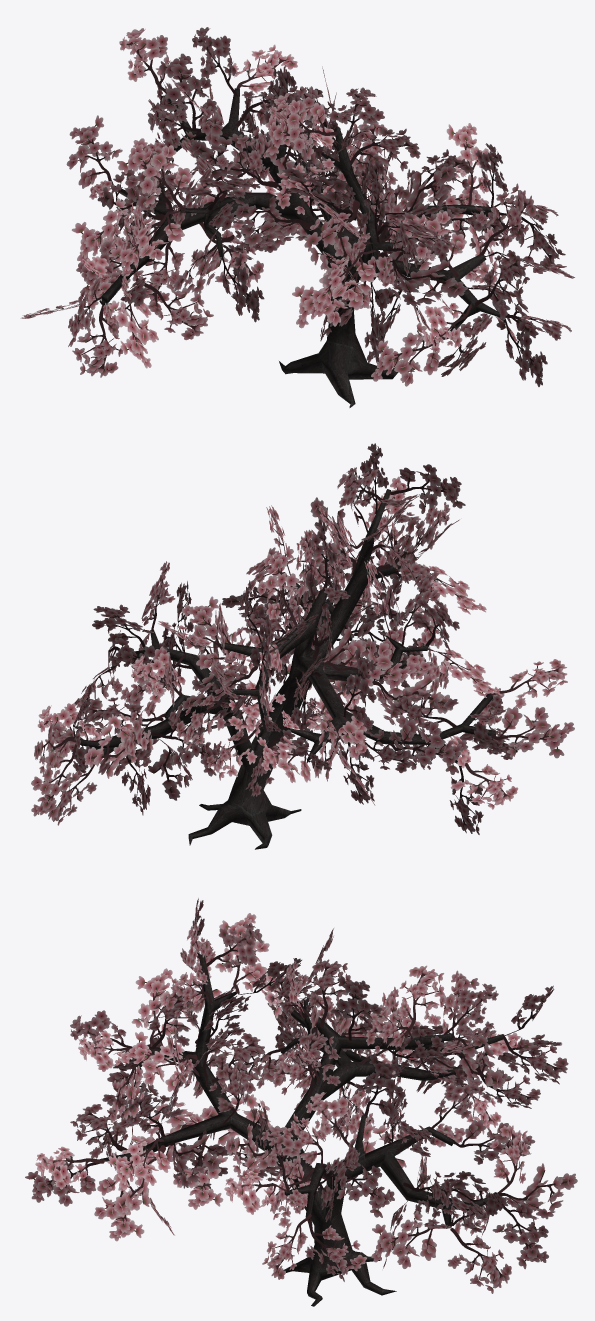
The model's file is tree_sakura.glb.
3 views of the same model, one above another, from view 1: azimuth 30°, elevation 25°; view 2: azimuth 150°, elevation 25°; view 3: azimuth 270°, elevation 25° (orthographic). The views are drawn at different scales.
Parts seen in each view (by area): view 1: LEAVES, SAKURA_TREE; view 2: LEAVES, SAKURA_TREE; view 3: LEAVES, SAKURA_TREE.
Boxes of the visible parts, x1,y1,x2,y2 form: LEAVES: (20,27,574,386); SAKURA_TREE: (99,88,500,407); LEAVES: (31,443,574,834); SAKURA_TREE: (79,489,495,849); LEAVES: (25,898,577,1293); SAKURA_TREE: (100,954,503,1306).
Bounding box in the file's own units: 7.73 × 5.48 × 8.3.
2 materials, 2 textured.
